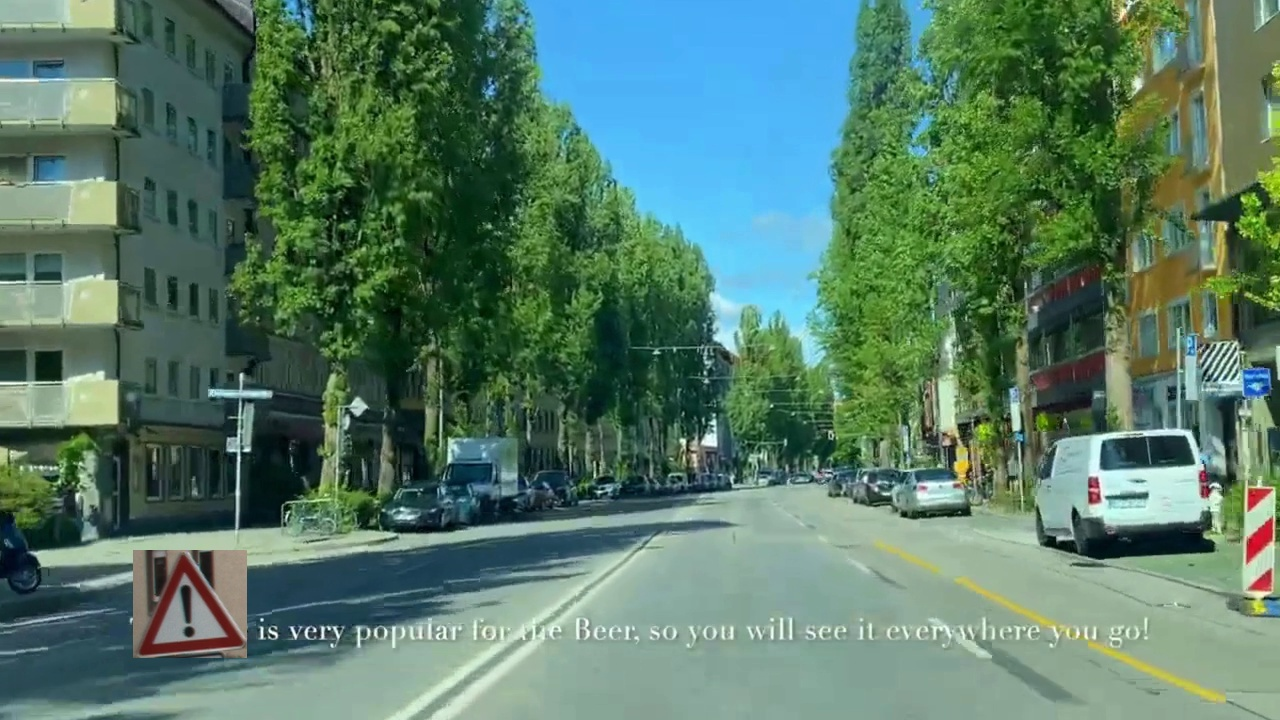Caution: (133, 550, 247, 658)
